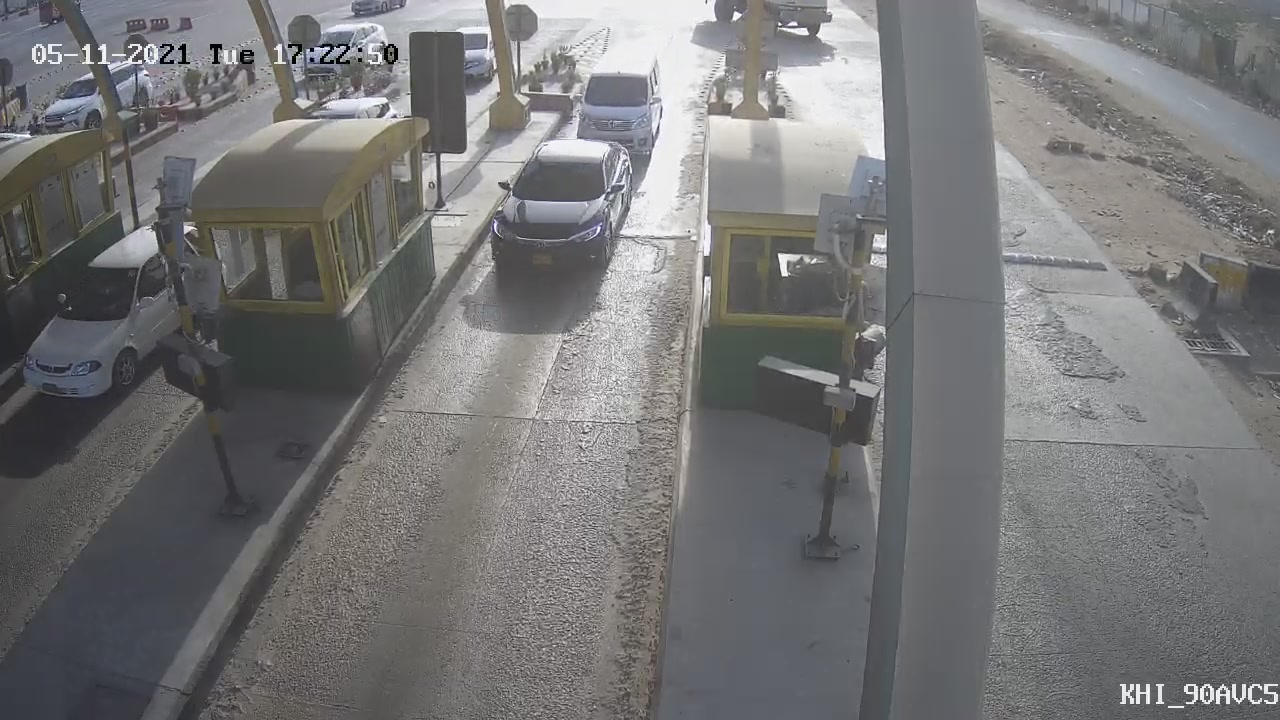F1: (469, 131, 632, 274), (560, 40, 674, 178)
